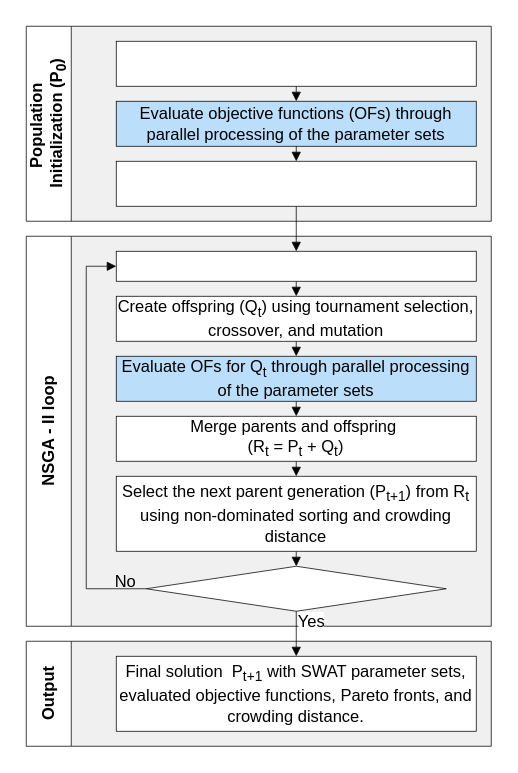
The diagram is 518 pixels wide and 773 high, and some of its shapes have lost their labels. The shapes that lost their labels are listed below. From the top down, each one's centre as x and y in pixels, then its label:
At point (295, 63): "Generate SWAT parameter sets using random sampling".
At point (295, 183): "Rank the population using non-dominated sorting and compute crowding distance".
At point (295, 265): "Parent population (P t )".
At point (295, 588): "t = maxGenerations".
